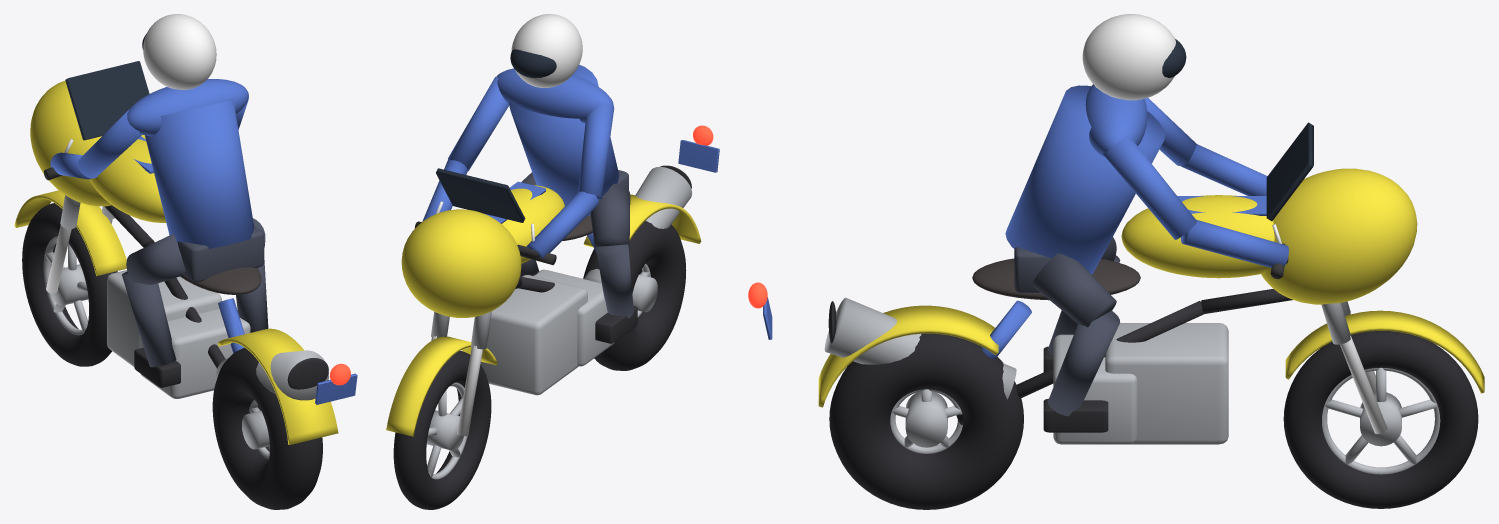
Rendered from streak.glb.
The picture shows the model from 3 angles, left to right: view 1: azimuth 30°, elevation 25°; view 2: azimuth 150°, elevation 25°; view 3: azimuth 270°, elevation 25°; orthographic projection. The views are drawn at different scales.
Visible parts, largest first — view 1: rider_jacket, body_paint, body_alu, wheel_r_rubber, rider_pants, wheel_f_rubber, rider_helmet, body_visor, body_black, wheel_f_alu, body_accent, body_seat (+3 smaller); view 2: body_paint, rider_jacket, body_alu, wheel_f_rubber, wheel_r_rubber, rider_pants, rider_helmet, body_visor, wheel_f_alu, body_accent, body_chrome, rider_black (+3 smaller); view 3: body_paint, rider_jacket, wheel_r_rubber, body_alu, wheel_f_rubber, rider_pants, rider_helmet, wheel_f_alu, body_black, wheel_r_alu, body_seat, body_visor (+3 smaller).
Part boxes in pixels (x1,y1,x2,y2): rider_jacket: (50,79,254,248); body_paint: (14,81,338,444); body_alu: (60,195,329,400); wheel_r_rubber: (212,347,322,509); rider_pants: (122,218,268,367); wheel_f_rubber: (22,203,117,366); rider_helmet: (143,14,216,89); body_visor: (65,61,149,140); body_black: (104,205,328,413); wheel_f_alu: (43,236,88,335); body_accent: (134,136,357,404); body_seat: (180,267,261,294); body_paint: (386,185,701,436); rider_jacket: (422,64,619,258); body_alu: (431,166,692,395); wheel_f_rubber: (393,351,491,509); wheel_r_rubber: (583,221,686,370); rider_pants: (520,170,633,318); rider_helmet: (511,14,582,87); body_visor: (436,168,525,222); wheel_f_alu: (426,382,467,479); body_accent: (484,140,719,252); body_chrome: (431,201,534,436); rider_black: (595,306,637,343); body_paint: (818,168,1484,407); rider_jacket: (1005,84,1288,274); wheel_r_rubber: (829,333,1023,509); body_alu: (824,297,1350,444); wheel_f_rubber: (1283,331,1478,508); rider_pants: (1014,237,1120,416); rider_helmet: (1082,14,1175,100); wheel_f_alu: (1322,367,1440,474); body_black: (828,243,1292,425); wheel_r_alu: (890,389,962,453); body_seat: (972,258,1140,300); body_visor: (1266,122,1313,221).
Bounding box in the file's own units: 0.6473 × 1.67 × 2.27.
